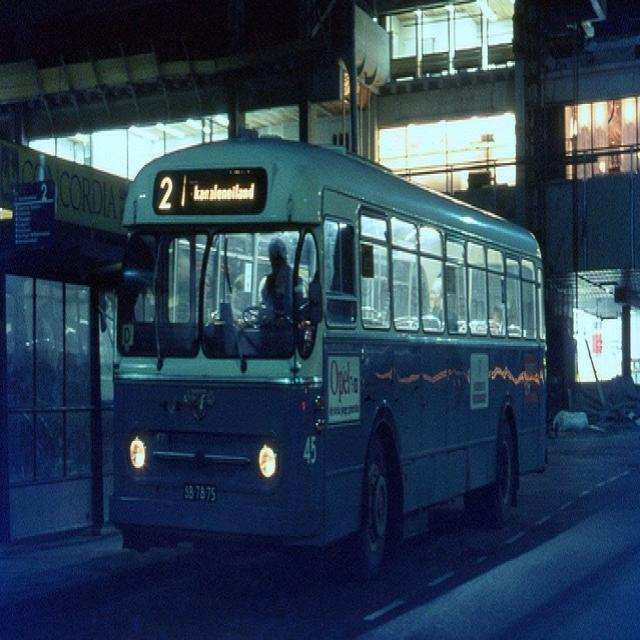Bus: (110, 116, 556, 571)
